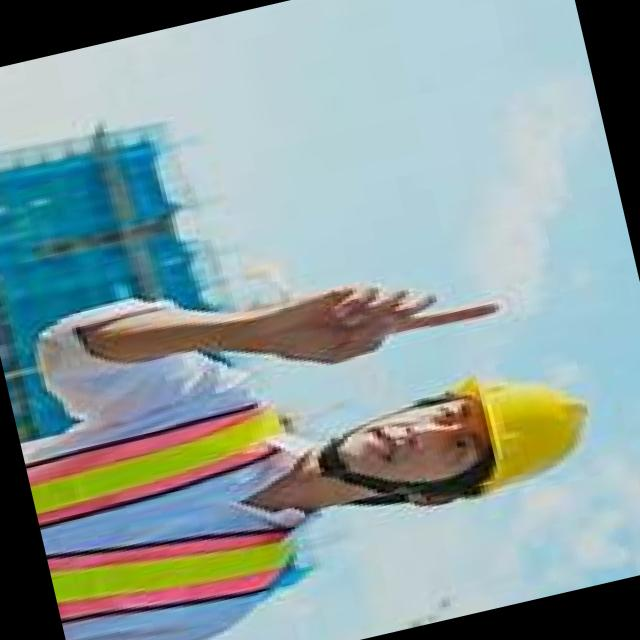not-gloved: (226, 240, 520, 396)
